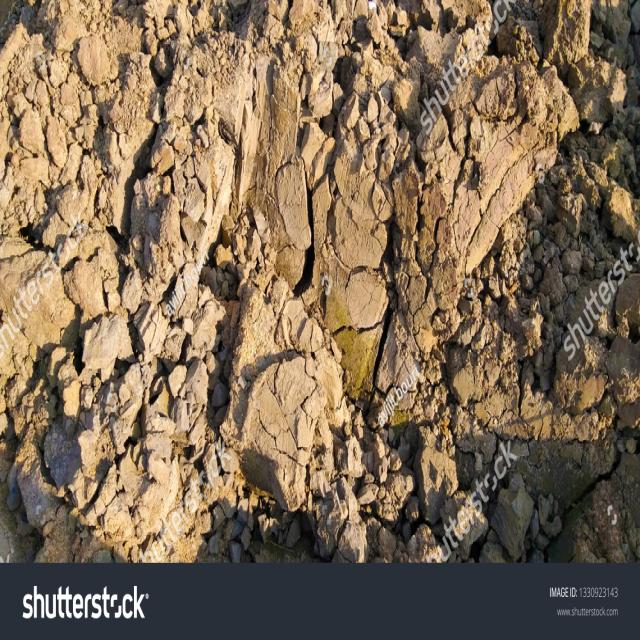Alluvial Soil: (34, 62, 395, 471)
